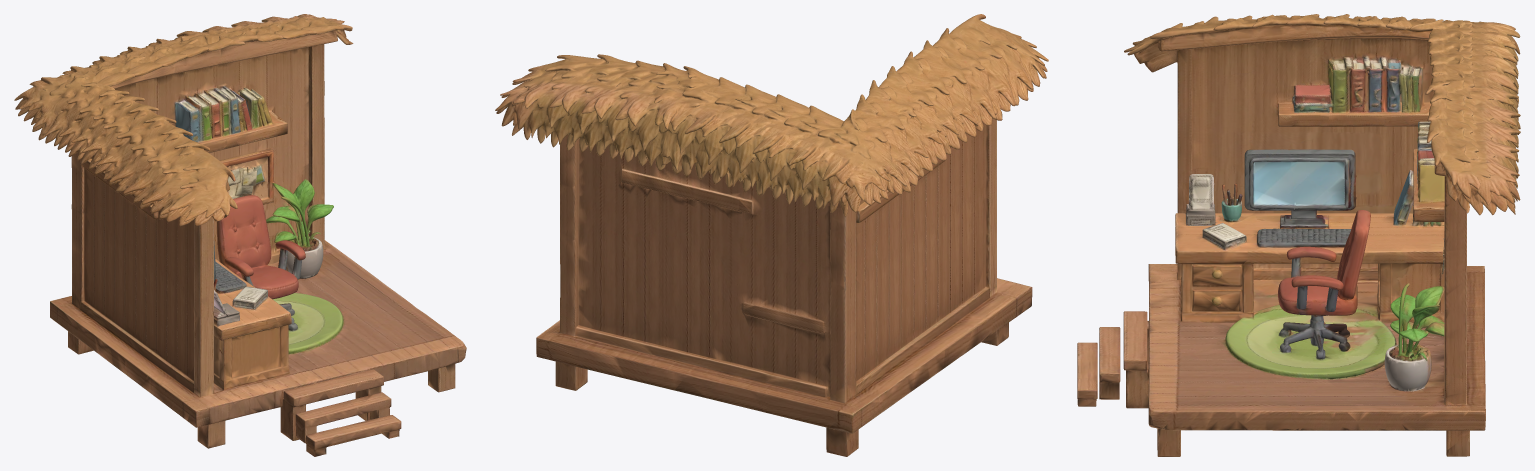
File: beach-office-hut-meshy6-web-v1.glb
3 renders of one model, left to right at view 1: azimuth 30°, elevation 25°; view 2: azimuth 150°, elevation 25°; view 3: azimuth 270°, elevation 25°, orthographic. The views are drawn at different scales.
Parts seen in each view (by area): view 1: Mesh_0.001; view 2: Mesh_0.001; view 3: Mesh_0.001.
Boxes of the visible parts, <box> form: Mesh_0.001: <box>14,14,466,456</box>; Mesh_0.001: <box>495,14,1048,456</box>; Mesh_0.001: <box>1077,14,1520,456</box>.
Bounding box in the file's own units: 0.9128 × 0.7497 × 0.9489.
1 material, 1 textured.
